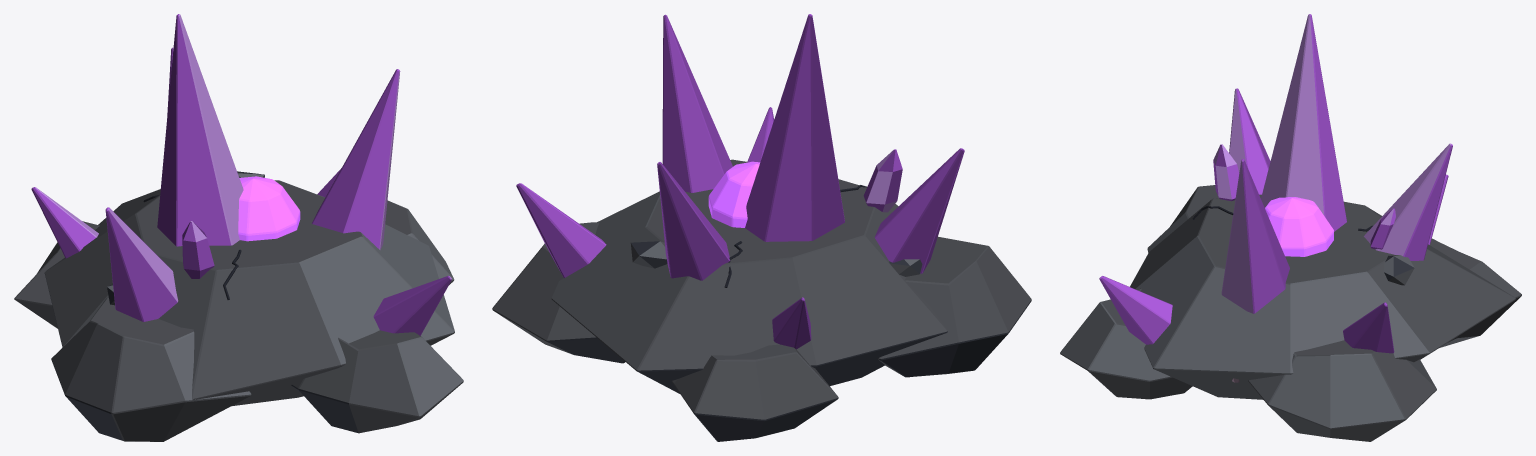
The model's file is BH_ORE_O03_Cristal_Crepuscular_V02.glb.
The picture shows the model from 3 angles, left to right: view 1: azimuth 30°, elevation 25°; view 2: azimuth 150°, elevation 25°; view 3: azimuth 270°, elevation 25°; orthographic projection. The views are drawn at different scales.
Visible parts, largest first — view 1: GAME | main fractured basalt.001, GAME | shoulder 1.001, GAME | amethyst 01.001, GAME | shoulder 3.001, GAME | amethyst 02.001, GAME | amethyst 03.001, GAME | arcane heart.001, GAME | amethyst 07.001, GAME | amethyst 06.001, GAME | shoulder 4.001, GAME | shoulder 2.001, O03 | V02 secondary crystal 1.001; view 2: GAME | main fractured basalt.001, GAME | amethyst 01.001, GAME | shoulder 1.001, GAME | shoulder 4.001, GAME | amethyst 02.001, GAME | shoulder 2.001, GAME | amethyst 03.001, GAME | amethyst 04.001, GAME | amethyst 05.001, GAME | arcane heart.001, O03 | V02 secondary crystal 1.001, GAME | amethyst 06.001 (+2 smaller); view 3: GAME | main fractured basalt.001, GAME | shoulder 2.001, GAME | amethyst 01.001, GAME | shoulder 3.001, GAME | amethyst 02.001, GAME | amethyst 04.001, GAME | arcane heart.001, GAME | amethyst 07.001, GAME | amethyst 03.001, GAME | shoulder 4.001, GAME | amethyst 05.001, O03 | V02 secondary crystal 1.001 (+3 smaller).
Part boxes in pixels (x1=…): GAME | main fractured basalt.001: x1=44, y1=180, x2=454, y2=406; GAME | shoulder 1.001: x1=51, y1=298, x2=251, y2=441; GAME | amethyst 01.001: x1=157, y1=14, x2=243, y2=246; GAME | shoulder 3.001: x1=291, y1=330, x2=463, y2=433; GAME | amethyst 02.001: x1=312, y1=69, x2=400, y2=249; GAME | amethyst 03.001: x1=105, y1=207, x2=178, y2=321; GAME | arcane heart.001: x1=238, y1=176, x2=300, y2=241; GAME | amethyst 07.001: x1=373, y1=275, x2=451, y2=335; GAME | amethyst 06.001: x1=31, y1=187, x2=98, y2=258; GAME | shoulder 4.001: x1=14, y1=221, x2=99, y2=328; GAME | shoulder 2.001: x1=385, y1=200, x2=454, y2=284; O03 | V02 secondary crystal 1.001: x1=182, y1=221, x2=214, y2=278; GAME | main fractured basalt.001: x1=551, y1=159, x2=947, y2=393; GAME | amethyst 01.001: x1=745, y1=14, x2=844, y2=241; GAME | shoulder 1.001: x1=877, y1=236, x2=1031, y2=377; GAME | shoulder 4.001: x1=671, y1=344, x2=838, y2=441; GAME | amethyst 02.001: x1=662, y1=14, x2=732, y2=192; GAME | shoulder 2.001: x1=492, y1=222, x2=625, y2=363; GAME | amethyst 03.001: x1=874, y1=148, x2=964, y2=273; GAME | amethyst 04.001: x1=657, y1=162, x2=730, y2=280; GAME | amethyst 05.001: x1=516, y1=183, x2=606, y2=277; GAME | arcane heart.001: x1=708, y1=161, x2=760, y2=227; O03 | V02 secondary crystal 1.001: x1=863, y1=149, x2=902, y2=212; GAME | amethyst 06.001: x1=772, y1=297, x2=811, y2=349; GAME | main fractured basalt.001: x1=1130, y1=194, x2=1515, y2=399; GAME | shoulder 2.001: x1=1248, y1=340, x2=1436, y2=441; GAME | amethyst 01.001: x1=1261, y1=14, x2=1346, y2=231; GAME | shoulder 3.001: x1=1060, y1=288, x2=1192, y2=399; GAME | amethyst 02.001: x1=1221, y1=159, x2=1289, y2=313; GAME | amethyst 04.001: x1=1364, y1=143, x2=1452, y2=260; GAME | arcane heart.001: x1=1265, y1=197, x2=1333, y2=256; GAME | amethyst 07.001: x1=1099, y1=276, x2=1172, y2=344; GAME | amethyst 03.001: x1=1229, y1=88, x2=1270, y2=194; GAME | shoulder 4.001: x1=1430, y1=238, x2=1521, y2=347; GAME | amethyst 05.001: x1=1343, y1=302, x2=1394, y2=353; O03 | V02 secondary crystal 1.001: x1=1213, y1=144, x2=1239, y2=201.
Size of the model in its own units: 3.33 by 2.66 by 3.4.
